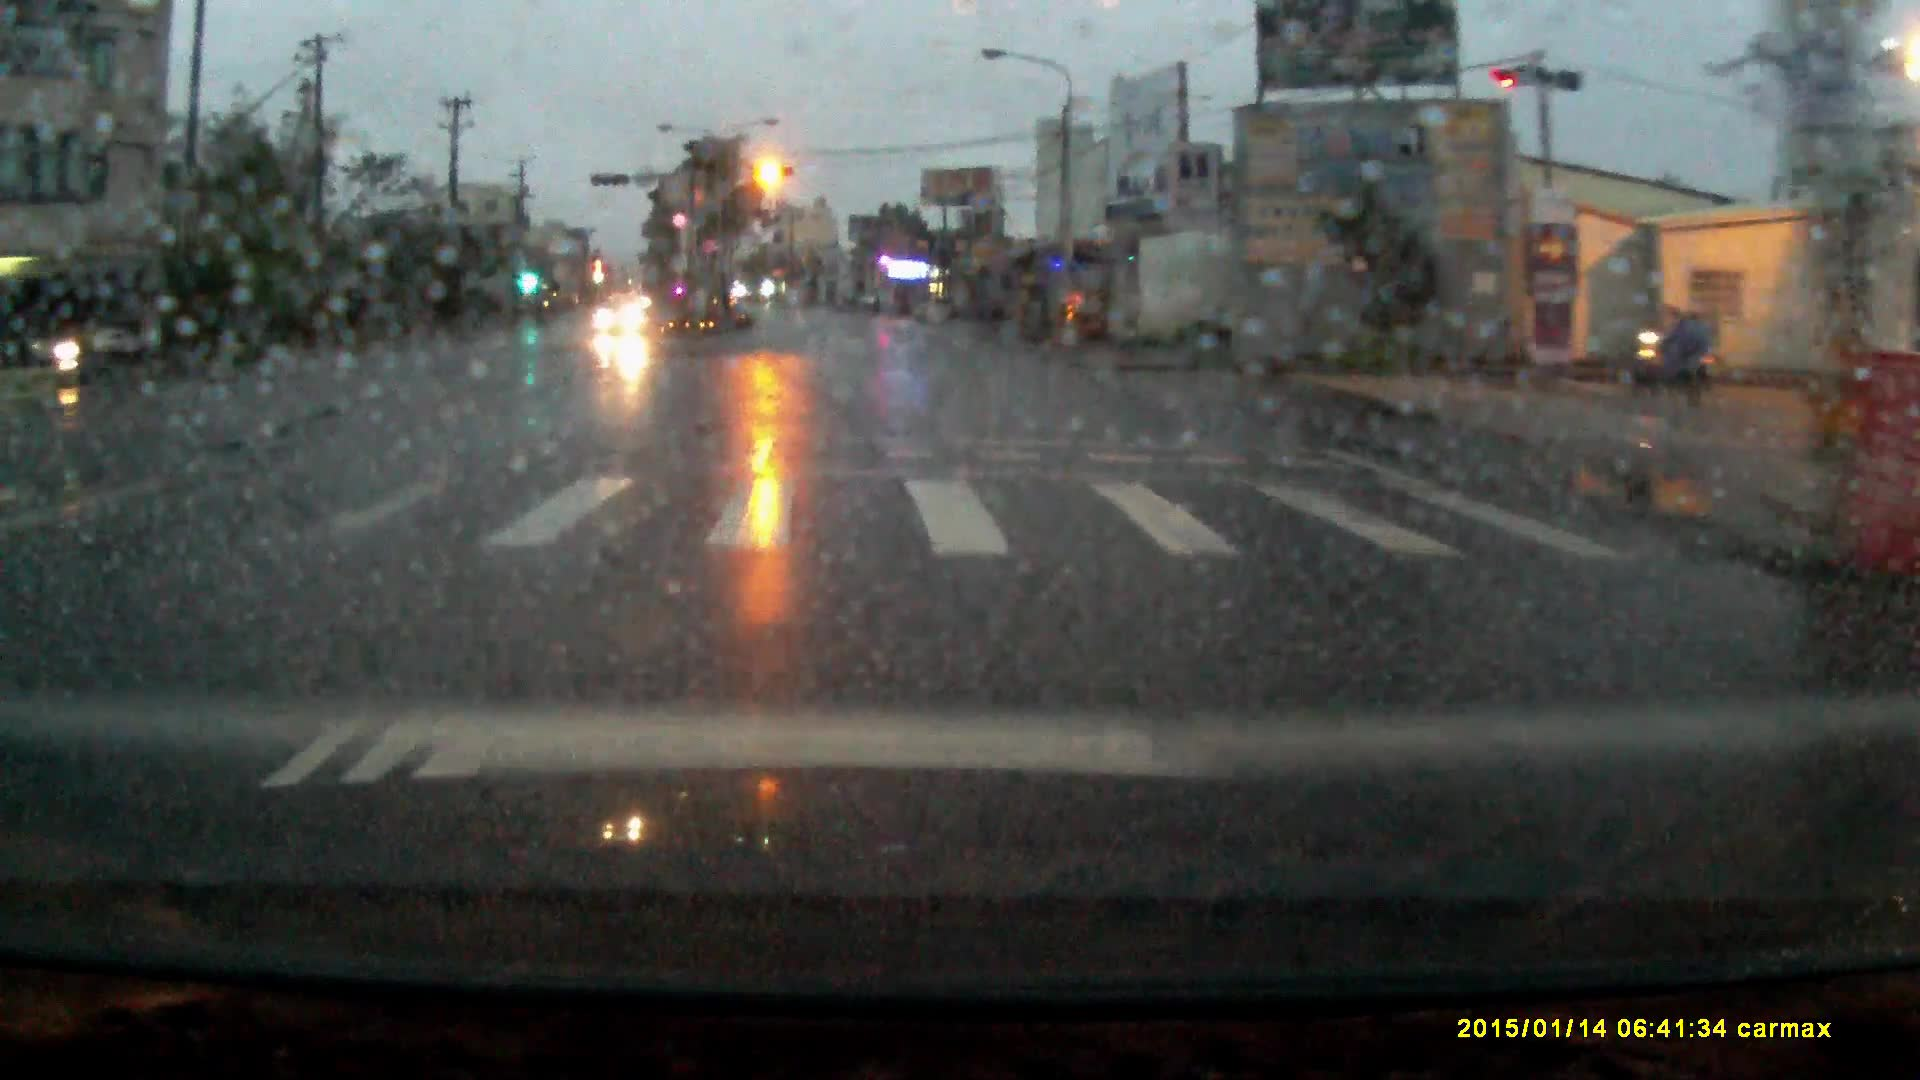rider: (1635, 294, 1713, 393), (50, 301, 99, 381)
vehicle: (598, 292, 654, 333)
